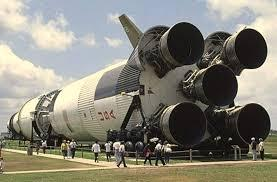body: (6, 56, 211, 146)
thruster: (158, 101, 208, 147), (224, 102, 273, 148), (159, 20, 205, 67), (193, 63, 238, 107), (224, 27, 269, 69)
